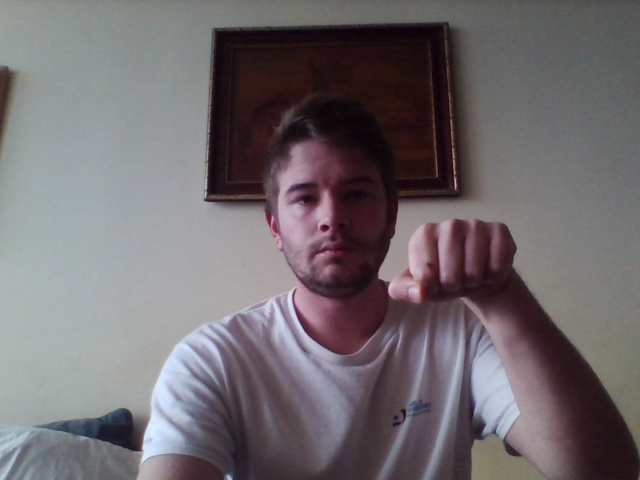da: (387, 219, 521, 306)
